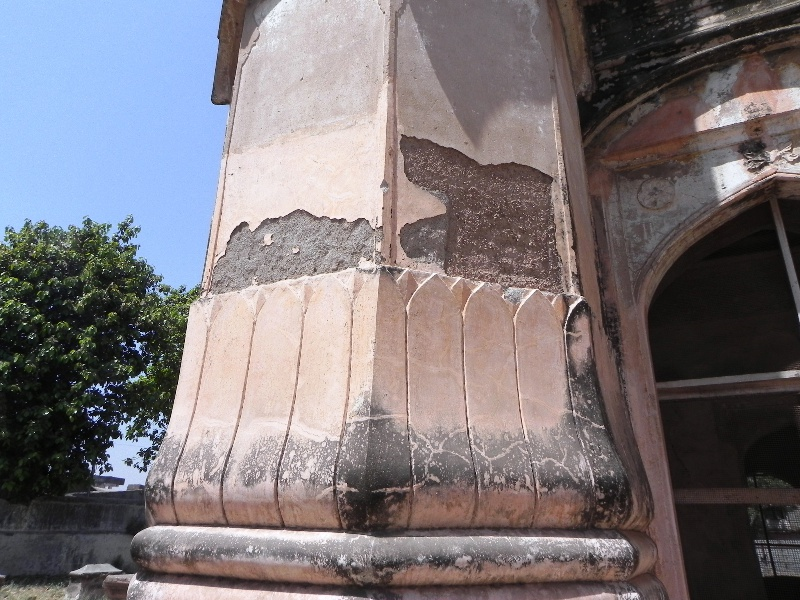Spalling: (392, 129, 562, 293), (210, 210, 386, 298)
